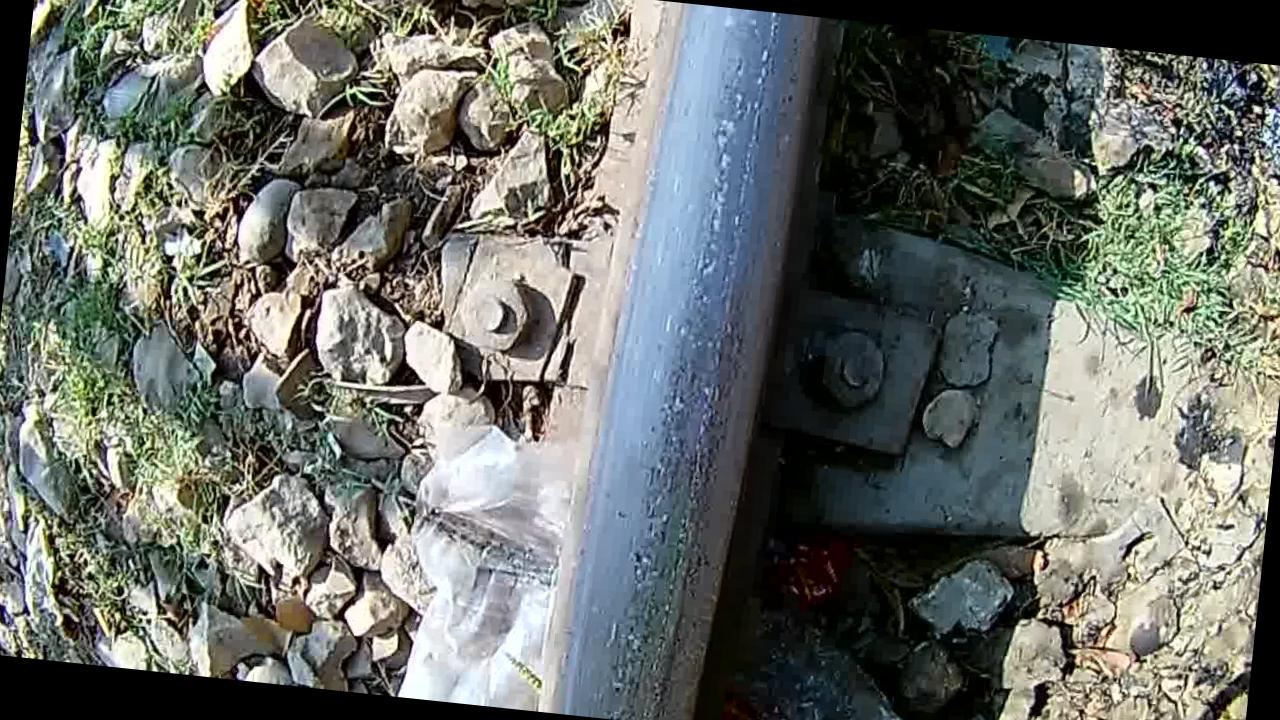clip_missing: (575, 4, 778, 720)
